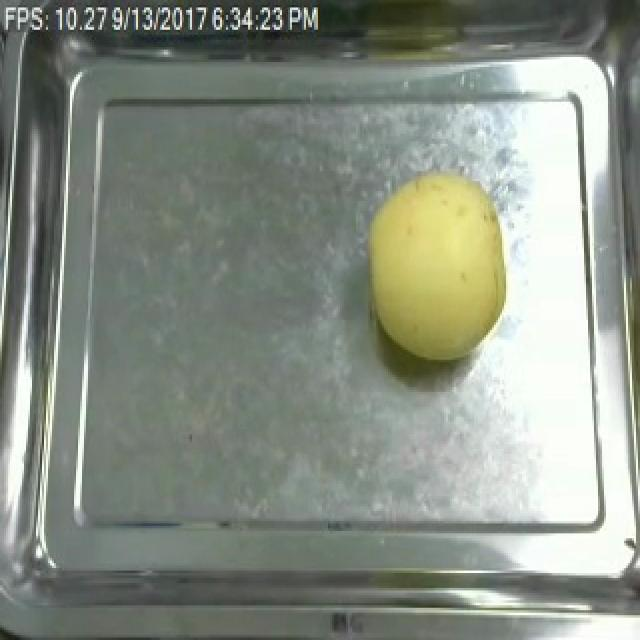Fruit: (356, 164, 518, 367)
